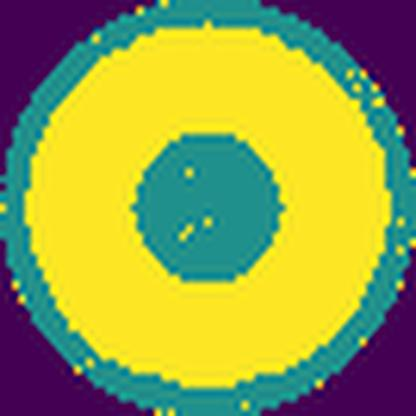Donut: (19, 18, 398, 390)
